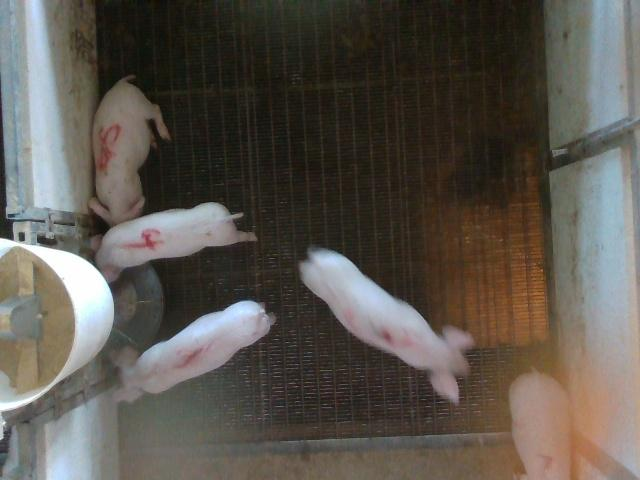pig-1: (110, 301, 275, 402)
pig-3: (299, 249, 474, 403)
pig-4: (91, 202, 256, 282)
pig-5: (89, 75, 170, 227)
